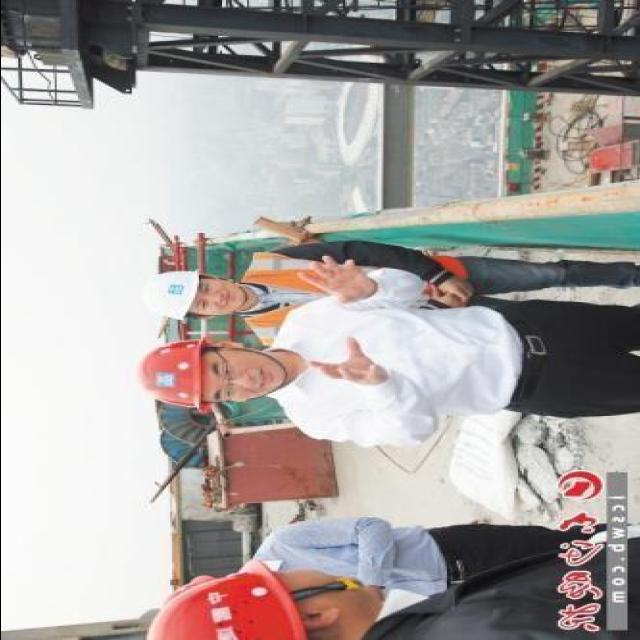helmet: (240, 245, 458, 346), (131, 556, 314, 640), (137, 336, 216, 415), (142, 266, 199, 324)
